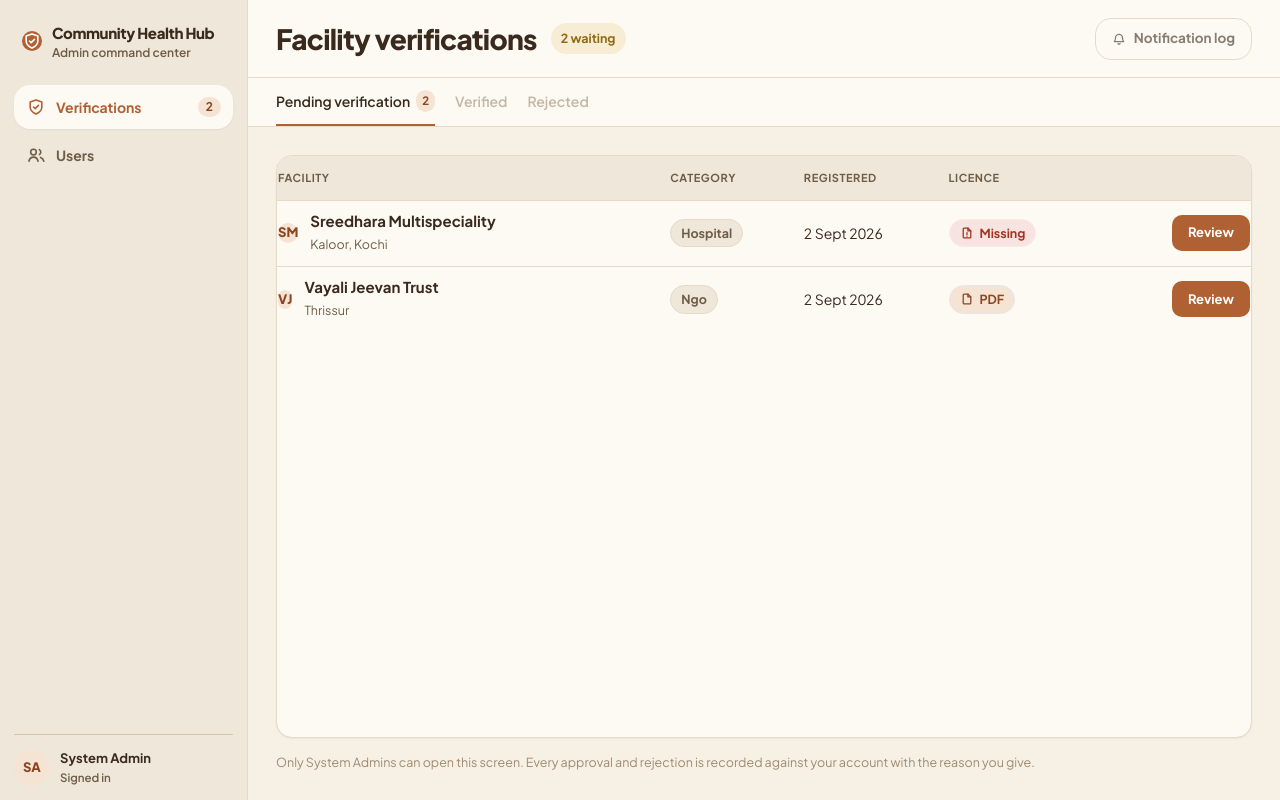
Scenario: PendingVerificationsPage › opens the review modal, shows the missing-document warning, and disables Approve
Expected: the text "Sreedhara Multispeciality" is shown, [310,211,496,231]
Click the button "Review" in the row of "SM".
click(1211, 233)  # box [1172,215,1250,251]
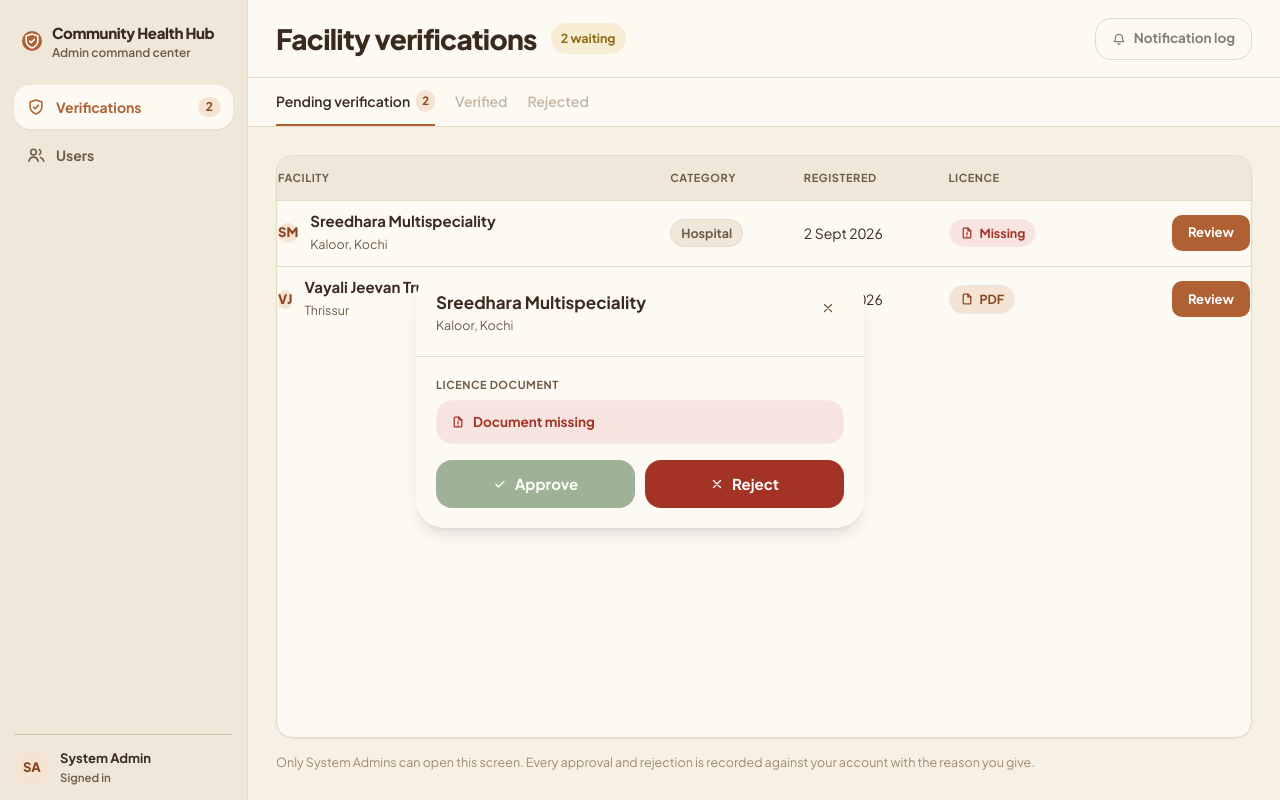
Expected: the text "Document missing" is shown, [436,400,844,444]
Expected: the button "Approve" is disabled, [436,460,635,508]
